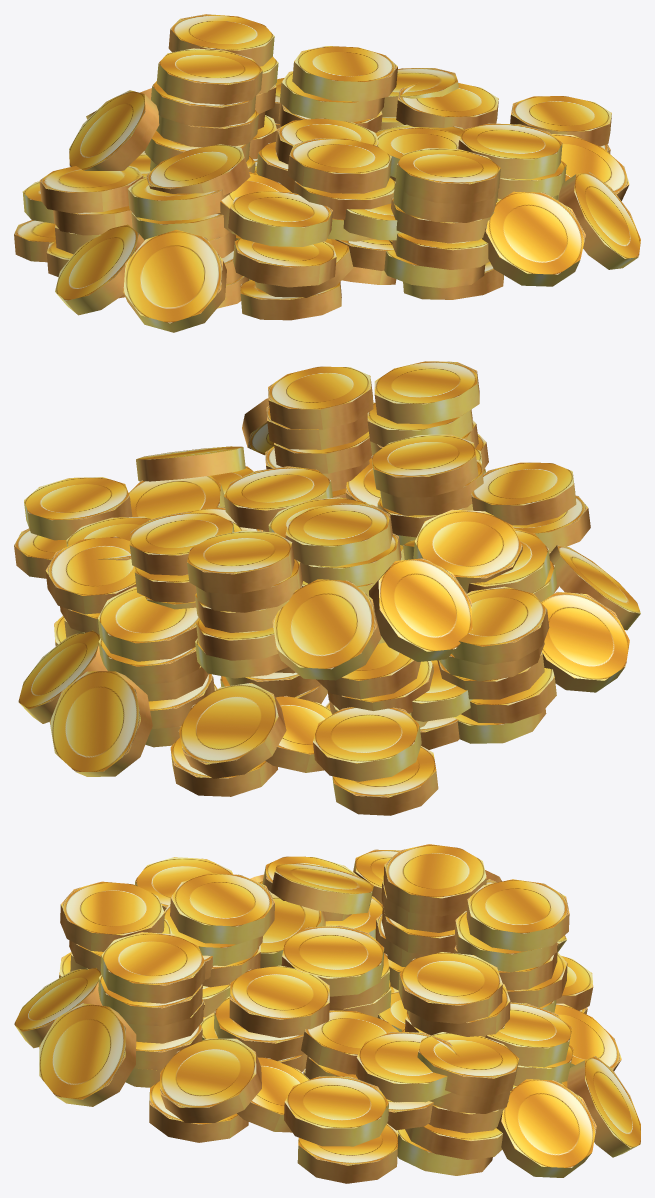
The model's file is coin6.obj.
The picture shows the model from 3 angles, top to bottom: view 1: azimuth 30°, elevation 25°; view 2: azimuth 150°, elevation 25°; view 3: azimuth 270°, elevation 25°; orthographic projection. The views are drawn at different scales.
Size of the model in its own units: 8.34 by 3.07 by 8.09.
